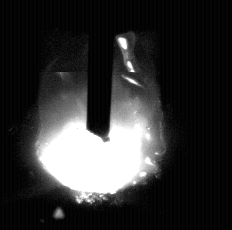arame: (88, 0, 112, 142)
poca: (35, 0, 167, 230)
